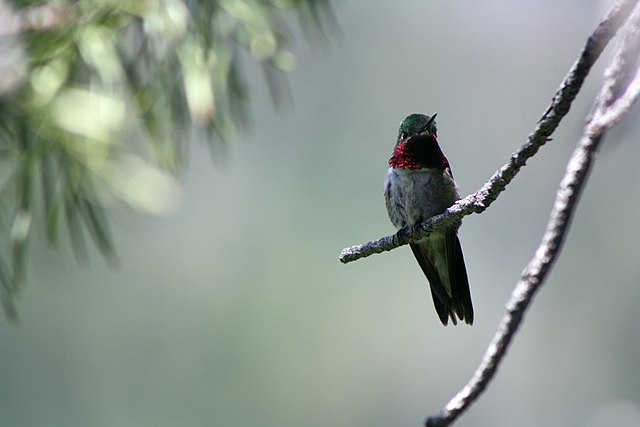selasphorus platycercus: (385, 112, 474, 325)
